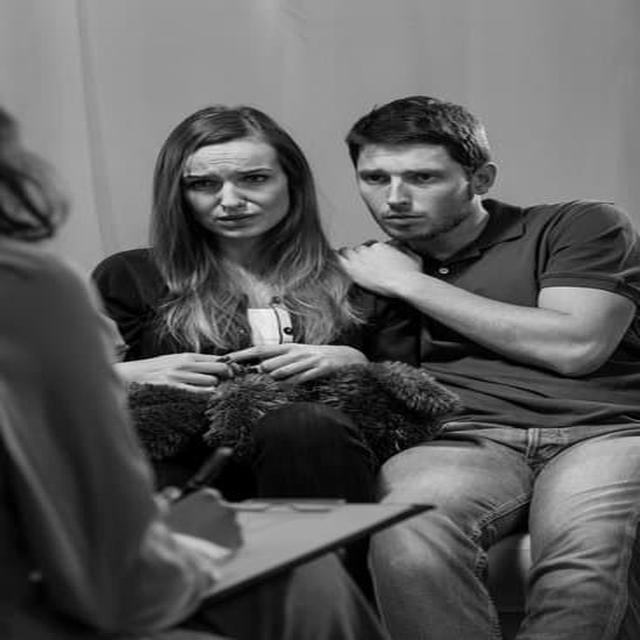Fear: (358, 142, 467, 242), (182, 142, 284, 238)
